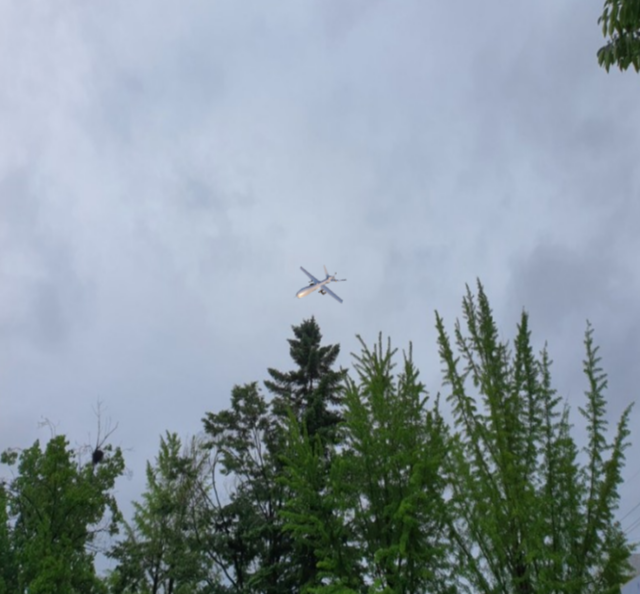military drone: (296, 265, 347, 303)
